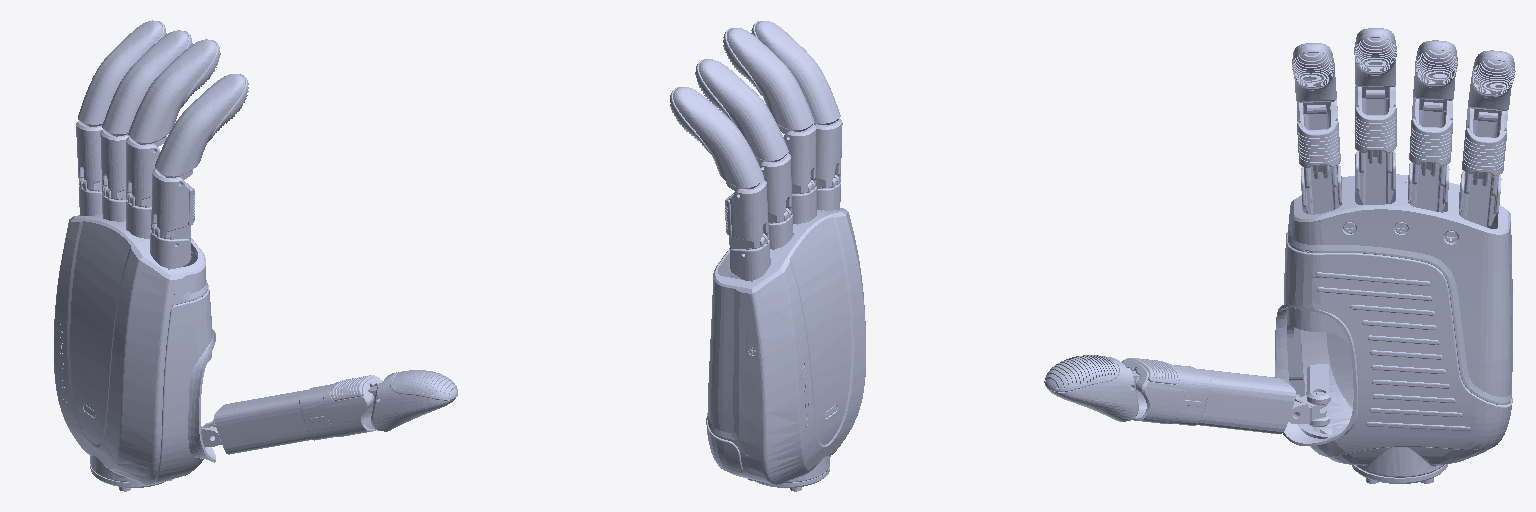
URDF robot description (linkerhand_L6_left):
<?xml version="1.0" encoding="utf-8"?>
<!-- This URDF was automatically created by SolidWorks to URDF Exporter! Originally created by [author] ([email redacted]) 
     Commit Version: 1.6.0-1-g15f4949  Build Version: 1.6.7594.29634
     For more information, please see http://wiki.ros.org/sw_urdf_exporter -->
<robot
  name="linkerhand_L6_left">
  <link
    name="hand_base_link">
    <inertial>
      <origin
        xyz="0.00857878815855655 -0.0101812292867668 0.0904923011663288"
        rpy="0 0 0" />
      <mass
        value="0.989011744524491" />
      <inertia
        ixx="0.00457589209561874"
        ixy="0.000510023561222745"
        ixz="-8.86466668510805E-05"
        iyy="0.00351398853618454"
        iyz="-0.000321642420852552"
        izz="0.00195569823887101" />
    </inertial>
    <visual>
      <origin
        xyz="0 0 0"
        rpy="0 0 0" />
      <geometry>
        <mesh
          filename="meshes/hand_base_link.STL" />
      </geometry>
      <material
        name="">
        <color
          rgba="0.796078431372549 0.823529411764706 0.937254901960784 1" />
      </material>
    </visual>
    <collision>
      <origin
        xyz="0 0 0"
        rpy="0 0 0" />
      <geometry>
        <mesh
          filename="meshes/hand_base_link.STL" />
      </geometry>
    </collision>
  </link>
  <link
    name="thumb_metacarpals_base1">
    <inertial>
      <origin
        xyz="0.00076552424483875 0.0174785698821439 0.0644493696518092"
        rpy="0 0 0" />
      <mass
        value="0.989011744524491" />
      <inertia
        ixx="0.0045758920956187"
        ixy="0.000512806592707004"
        ixz="-7.07931001044523E-05"
        iyy="0.00353452721884731"
        iyz="-0.000266508497976059"
        izz="0.00193515955620828" />
    </inertial>
    <visual>
      <origin
        xyz="0 0 0"
        rpy="0 0 0" />
      <geometry>
        <mesh
          filename="meshes/thumb_metacarpals_base1.STL" />
      </geometry>
      <material
        name="">
        <color
          rgba="0.796078431372549 0.823529411764706 0.937254901960784 1" />
      </material>
    </visual>
    <collision>
      <origin
        xyz="0 0 0"
        rpy="0 0 0" />
      <geometry>
        <mesh
          filename="meshes/thumb_metacarpals_base1.STL" />
      </geometry>
    </collision>
  </link>
  <joint
    name="thunb_cmc_roll"
    type="revolute">
    <origin
      xyz="0.0078133 -0.029898 0.026692"
      rpy="-0.034907 0 0" />
    <parent
      link="hand_base_link" />
    <child
      link="thumb_metacarpals_base1" />
    <axis
      xyz="0 0 1" />
    <limit
      lower="0"
      upper="1.39"
      effort="0"
      velocity="0" />
  </joint>
  <link
    name="thumb_metacarpals">
    <inertial>
      <origin
        xyz="0.0105826201020131 0.0636768801273703 -0.00944561309614292"
        rpy="0 0 0" />
      <mass
        value="0.989011744524491" />
      <inertia
        ixx="0.00471517411049162"
        ixy="-0.000296387131279023"
        ixz="0.000234822292747517"
        iyy="0.00196737688412619"
        iyz="-0.000278534427392877"
        izz="0.00336302787605648" />
    </inertial>
    <visual>
      <origin
        xyz="0 0 0"
        rpy="0 0 0" />
      <geometry>
        <mesh
          filename="meshes/thumb_metacarpals.STL" />
      </geometry>
      <material
        name="">
        <color
          rgba="0.796078431372549 0.823529411764706 0.937254901960784 1" />
      </material>
    </visual>
    <collision>
      <origin
        xyz="0 0 0"
        rpy="0 0 0" />
      <geometry>
        <mesh
          filename="meshes/thumb_metacarpals.STL" />
      </geometry>
    </collision>
  </link>
  <joint
    name="thumb_cmc_pitch"
    type="revolute">
    <origin
      xyz="0.008374 -0.011838 0.0066685"
      rpy="1.2615 0 0.61087" />
    <parent
      link="thumb_metacarpals_base1" />
    <child
      link="thumb_metacarpals" />
    <axis
      xyz="-1 0 0" />
    <limit
      lower="0"
      upper="0.99"
      effort="0"
      velocity="0" />
  </joint>
  <link
    name="thumb_distal">
    <inertial>
      <origin
        xyz="0.0105826201018901 0.0237773829969933 -0.106021446867538"
        rpy="0 0 0" />
      <mass
        value="0.989011744524491" />
      <inertia
        ixx="0.00471517411049405"
        ixy="-0.000201791772738875"
        ixz="0.000319791996788793"
        iyy="0.00194651170522825"
        iyz="0.000219147356651716"
        izz="0.00338389305495199" />
    </inertial>
    <visual>
      <origin
        xyz="0 0 0"
        rpy="0 0 0" />
      <geometry>
        <mesh
          filename="meshes/thumb_distal.STL" />
      </geometry>
      <material
        name="">
        <color
          rgba="0.796078431372549 0.823529411764706 0.937254901960784 1" />
      </material>
    </visual>
    <collision>
      <origin
        xyz="0 0 0"
        rpy="0 0 0" />
      <geometry>
        <mesh
          filename="meshes/thumb_distal.STL" />
      </geometry>
    </collision>
  </link>
  <joint
    name="thumb_dip"
    type="revolute">
    <origin
      xyz="0 0.0061 0.0827"
      rpy="0.33787 0 0" />
    <parent
      link="thumb_metacarpals" />
    <child
      link="thumb_distal" />
    <axis
      xyz="-1 0 0" />
    <limit
      lower="0"
      upper="1.22"
      effort="0"
      velocity="0" />
    <mimic
      joint="thumb_cmc_pitch"
      multiplier="2.22"
      offset="0" />
  </joint>
  <link
    name="index_proximal">
    <inertial>
      <origin
        xyz="0.0092469997976674 0.0170279294679396 -0.0314863720817707"
        rpy="0 0 0" />
      <mass
        value="0.989011744524491" />
      <inertia
        ixx="0.00457589209565323"
        ixy="0.000504685183543645"
        ixz="-0.000115217750468202"
        iyy="0.00347609950952756"
        iyz="-0.000401323275067273"
        izz="0.00199358726549349" />
    </inertial>
    <visual>
      <origin
        xyz="0 0 0"
        rpy="0 0 0" />
      <geometry>
        <mesh
          filename="meshes/index_proximal.STL" />
      </geometry>
      <material
        name="">
        <color
          rgba="0.796078431372549 0.823529411764706 0.937254901960784 1" />
      </material>
    </visual>
    <collision>
      <origin
        xyz="0 0 0"
        rpy="0 0 0" />
      <geometry>
        <mesh
          filename="meshes/index_proximal.STL" />
      </geometry>
    </collision>
  </link>
  <joint
    name="index_mcp_pitch"
    type="revolute">
    <origin
      xyz="-0.00066821 -0.028834 0.12104"
      rpy="0.05236 0 0" />
    <parent
      link="hand_base_link" />
    <child
      link="index_proximal" />
    <axis
      xyz="0 1 0" />
    <limit
      lower="0"
      upper="1.26"
      effort="0"
      velocity="0" />
  </joint>
  <link
    name="index_distal">
    <inertial>
      <origin
        xyz="0.00830951447472077 0.0170279294682548 -0.0594885348780782"
        rpy="0 0 0" />
      <mass
        value="0.989011744524491" />
      <inertia
        ixx="0.00457589209561839"
        ixy="0.000504685183580248"
        ixz="-0.00011521775045991"
        iyy="0.00347609950956193"
        iyz="-0.000401323275072238"
        izz="0.00199358726549397" />
    </inertial>
    <visual>
      <origin
        xyz="0 0 0"
        rpy="0 0 0" />
      <geometry>
        <mesh
          filename="meshes/index_distal.STL" />
      </geometry>
      <material
        name="">
        <color
          rgba="0.796078431372549 0.823529411764706 0.937254901960784 1" />
      </material>
    </visual>
    <collision>
      <origin
        xyz="0 0 0"
        rpy="0 0 0" />
      <geometry>
        <mesh
          filename="meshes/index_distal.STL" />
      </geometry>
    </collision>
  </link>
  <joint
    name="index_dip"
    type="revolute">
    <origin
      xyz="0.00093749 0 0.028002"
      rpy="0 0 0" />
    <parent
      link="index_proximal" />
    <child
      link="index_distal" />
    <axis
      xyz="0 1 0" />
    <limit
      lower="0"
      upper="1.14"
      effort="0"
      velocity="0" />
    <mimic
      joint="index_mcp_pitch"
      multiplier="1.9"
      offset="0" />
  </joint>
  <link
    name="middle_proximal">
    <inertial>
      <origin
        xyz="0.00924699979718706 -0.00141333465863674 -0.036549423957742"
        rpy="0 0 0" />
      <mass
        value="0.989011744524491" />
      <inertia
        ixx="0.00457589209561839"
        ixy="0.000510023561222953"
        ixz="-8.86466668517638E-05"
        iyy="0.00351398853618483"
        iyz="-0.000321642420852728"
        izz="0.00195569823887106" />
    </inertial>
    <visual>
      <origin
        xyz="0 0 0"
        rpy="0 0 0" />
      <geometry>
        <mesh
          filename="meshes/middle_proximal.STL" />
      </geometry>
      <material
        name="">
        <color
          rgba="0.796078431372549 0.823529411764706 0.937254901960784 1" />
      </material>
    </visual>
    <collision>
      <origin
        xyz="0 0 0"
        rpy="0 0 0" />
      <geometry>
        <mesh
          filename="meshes/middle_proximal.STL" />
      </geometry>
    </collision>
  </link>
  <joint
    name="middle_mcp_pitch"
    type="revolute">
    <origin
      xyz="-0.00066821 -0.0087679 0.12704"
      rpy="0 0 0" />
    <parent
      link="hand_base_link" />
    <child
      link="middle_proximal" />
    <axis
      xyz="0 1 0" />
    <limit
      lower="0"
      upper="1.26"
      effort="0"
      velocity="0" />
  </joint>
  <link
    name="middle_distal">
    <inertial>
      <origin
        xyz="0.00830951447493133 -0.00141333465863702 -0.0645515867540457"
        rpy="0 0 0" />
      <mass
        value="0.989011744524491" />
      <inertia
        ixx="0.00457589209561839"
        ixy="0.000510023561222953"
        ixz="-8.86466668517638E-05"
        iyy="0.00351398853618483"
        iyz="-0.000321642420852728"
        izz="0.00195569823887106" />
    </inertial>
    <visual>
      <origin
        xyz="0 0 0"
        rpy="0 0 0" />
      <geometry>
        <mesh
          filename="meshes/middle_distal.STL" />
      </geometry>
      <material
        name="">
        <color
          rgba="0.796078431372549 0.823529411764706 0.937254901960784 1" />
      </material>
    </visual>
    <collision>
      <origin
        xyz="0 0 0"
        rpy="0 0 0" />
      <geometry>
        <mesh
          filename="meshes/middle_distal.STL" />
      </geometry>
    </collision>
  </link>
  <joint
    name="middle_dip"
    type="revolute">
    <origin
      xyz="0.00093749 0 0.028002"
      rpy="0 0 0" />
    <parent
      link="middle_proximal" />
    <child
      link="middle_distal" />
    <axis
      xyz="0 1 0" />
    <limit
      lower="0"
      upper="1.14"
      effort="0"
      velocity="0" />
    <mimic
      joint="middle_mcp_pitch"
      multiplier="1.9"
      offset="0" />
  </joint>
  <link
    name="ring_proximal">
    <inertial>
      <origin
        xyz="0.00925247128768376 -0.0193514101658236 -0.0326087565608211"
        rpy="0 0 0" />
      <mass
        value="0.989011744524491" />
      <inertia
        ixx="0.00457589209561839"
        ixy="0.000513963999735352"
        ixz="-6.18326088929615E-05"
        iyy="0.00354334108551035"
        iyz="-0.000238437584966611"
        izz="0.00192634568954554" />
    </inertial>
    <visual>
      <origin
        xyz="0 0 0"
        rpy="0 0 0" />
      <geometry>
        <mesh
          filename="meshes/ring_proximal.STL" />
      </geometry>
      <material
        name="">
        <color
          rgba="0.796078431372549 0.823529411764706 0.937254901960784 1" />
      </material>
    </visual>
    <collision>
      <origin
        xyz="0 0 0"
        rpy="0 0 0" />
      <geometry>
        <mesh
          filename="meshes/ring_proximal.STL" />
      </geometry>
    </collision>
  </link>
  <joint
    name="ring_mcp_pitch"
    type="revolute">
    <origin
      xyz="-0.00067368 0.01085 0.12204"
      rpy="-0.05236 0 0" />
    <parent
      link="hand_base_link" />
    <child
      link="ring_proximal" />
    <axis
      xyz="0 1 0" />
    <limit
      lower="0"
      upper="1.26"
      effort="0"
      velocity="0" />
  </joint>
  <link
    name="ring_distal">
    <inertial>
      <origin
        xyz="0.00831523905181249 -0.0193514101658595 -0.0606109278290774"
        rpy="0 0 0" />
      <mass
        value="0.989011744524491" />
      <inertia
        ixx="0.00457589209561839"
        ixy="0.000513963999735352"
        ixz="-6.18326088929607E-05"
        iyy="0.00354334108551035"
        iyz="-0.000238437584966608"
        izz="0.00192634568954554" />
    </inertial>
    <visual>
      <origin
        xyz="0 0 0"
        rpy="0 0 0" />
      <geometry>
        <mesh
          filename="meshes/ring_distal.STL" />
      </geometry>
      <material
        name="">
        <color
          rgba="0.796078431372549 0.823529411764706 0.937254901960784 1" />
      </material>
    </visual>
    <collision>
      <origin
        xyz="0 0 0"
        rpy="0 0 0" />
      <geometry>
        <mesh
          filename="meshes/ring_distal.STL" />
      </geometry>
    </collision>
  </link>
  <joint
    name="ring_dip"
    type="revolute">
    <origin
      xyz="0.00093723 0 0.028002"
      rpy="0 0 0" />
    <parent
      link="ring_proximal" />
    <child
      link="ring_distal" />
    <axis
      xyz="0 1 0" />
    <limit
      lower="0"
      upper="1.14"
      effort="0"
      velocity="0" />
    <mimic
      joint="ring_mcp_pitch"
      multiplier="1.9"
      offset="0" />
  </joint>
  <link
    name="pinky_proximal">
    <inertial>
      <origin
        xyz="0.00925731055551827 -0.0375733812188533 -0.0309587906262359"
        rpy="0 0 0" />
      <mass
        value="0.989011744524491" />
      <inertia
        ixx="0.00457589209561839"
        ixy="0.000515808833683702"
        ixz="-4.38578572245639E-05"
        iyy="0.00355800419088818"
        iyz="-0.000181458814552756"
        izz="0.00191168258416771" />
    </inertial>
    <visual>
      <origin
        xyz="0 0 0"
        rpy="0 0 0" />
      <geometry>
        <mesh
          filename="meshes/pinky_proximal.STL" />
      </geometry>
      <material
        name="">
        <color
          rgba="0.796078431372549 0.823529411764706 0.937254901960784 1" />
      </material>
    </visual>
    <collision>
      <origin
        xyz="0 0 0"
        rpy="0 0 0" />
      <geometry>
        <mesh
          filename="meshes/pinky_proximal.STL" />
      </geometry>
    </collision>
  </link>
  <joint
    name="pinky_mcp_pitch"
    type="revolute">
    <origin
      xyz="-0.00067852 0.029947 0.11806"
      rpy="-0.087266 0 0" />
    <parent
      link="hand_base_link" />
    <child
      link="pinky_proximal" />
    <axis
      xyz="0 1 0" />
    <limit
      lower="0"
      upper="1.26"
      effort="0"
      velocity="0" />
  </joint>
  <link
    name="pinky_distal">
    <inertial>
      <origin
        xyz="0.00832007831962359 -0.0375733812189009 -0.0589609618944907"
        rpy="0 0 0" />
      <mass
        value="0.989011744524491" />
      <inertia
        ixx="0.00457589209561839"
        ixy="0.000515808833683702"
        ixz="-4.38578572245639E-05"
        iyy="0.00355800419088818"
        iyz="-0.000181458814552756"
        izz="0.00191168258416771" />
    </inertial>
    <visual>
      <origin
        xyz="0 0 0"
        rpy="0 0 0" />
      <geometry>
        <mesh
          filename="meshes/pinky_distal.STL" />
      </geometry>
      <material
        name="">
        <color
          rgba="0.796078431372549 0.823529411764706 0.937254901960784 1" />
      </material>
    </visual>
    <collision>
      <origin
        xyz="0 0 0"
        rpy="0 0 0" />
      <geometry>
        <mesh
          filename="meshes/pinky_distal.STL" />
      </geometry>
    </collision>
  </link>
  <joint
    name="pinky_dip"
    type="revolute">
    <origin
      xyz="0.00093723 0 0.028002"
      rpy="0 0 0" />
    <parent
      link="pinky_proximal" />
    <child
      link="pinky_distal" />
    <axis
      xyz="0 1 0" />
    <limit
      lower="0"
      upper="1.14"
      effort="0"
      velocity="0" />
    <mimic
      joint="pinky_mcp_pitch"
      multiplier="1.9"
      offset="0" />
  </joint>
</robot>

--- Render facts (derived) ---
3 views of the same robot in one strip: view 1: azimuth 30°, elevation 25°; view 2: azimuth 150°, elevation 25°; view 3: azimuth 270°, elevation 25° (orthographic).
Robot: linkerhand_L6_left — 12 links, 11 joints (11 revolute); root link hand_base_link; default pose: all joints at 0.
Visible links, largest first — view 1: hand_base_link, thumb_metacarpals, index_distal, middle_distal, thumb_distal, ring_distal, pinky_distal, index_proximal, middle_proximal, ring_proximal, pinky_proximal; view 2: hand_base_link, pinky_distal, middle_distal, ring_distal, index_distal, pinky_proximal, middle_proximal, index_proximal, ring_proximal; view 3: hand_base_link, thumb_metacarpals, thumb_distal, pinky_distal, ring_distal, index_distal, middle_distal, pinky_proximal, middle_proximal, ring_proximal, index_proximal, thumb_metacarpals_base1.
Boxes of the visible links, x1,y1,x2,y2 form: hand_base_link: (54,178,215,491); thumb_metacarpals: (211,375,382,454); index_distal: (155,74,248,179); middle_distal: (128,39,220,149); thumb_distal: (371,370,457,431); ring_distal: (102,30,192,136); pinky_distal: (78,20,166,126); index_proximal: (151,168,194,245); middle_proximal: (126,137,160,207); ring_proximal: (100,129,128,199); pinky_proximal: (76,121,102,191); hand_base_link: (706,175,865,491); pinky_distal: (670,87,763,191); middle_distal: (723,28,814,133); ring_distal: (695,59,788,164); index_distal: (751,21,840,125); pinky_proximal: (725,180,768,254); middle_proximal: (783,124,815,193); index_proximal: (816,118,842,188); ring_proximal: (759,153,791,223); hand_base_link: (1275,150,1512,483); thumb_metacarpals: (1122,358,1295,433); thumb_distal: (1044,355,1138,421); pinky_distal: (1468,50,1515,122); ring_distal: (1413,40,1457,111); index_distal: (1292,43,1336,114); middle_distal: (1354,28,1396,98); pinky_proximal: (1462,106,1507,195); middle_proximal: (1355,86,1396,172); ring_proximal: (1409,97,1452,185); index_proximal: (1297,99,1340,188); thumb_metacarpals_base1: (1288,392,1326,423).
Size in the robot's own frame: 0.1037 by 0.1734 by 0.193 metres.
Meshes: 12 distinct files referenced, 12 mesh visuals loaded (12 binary STL).